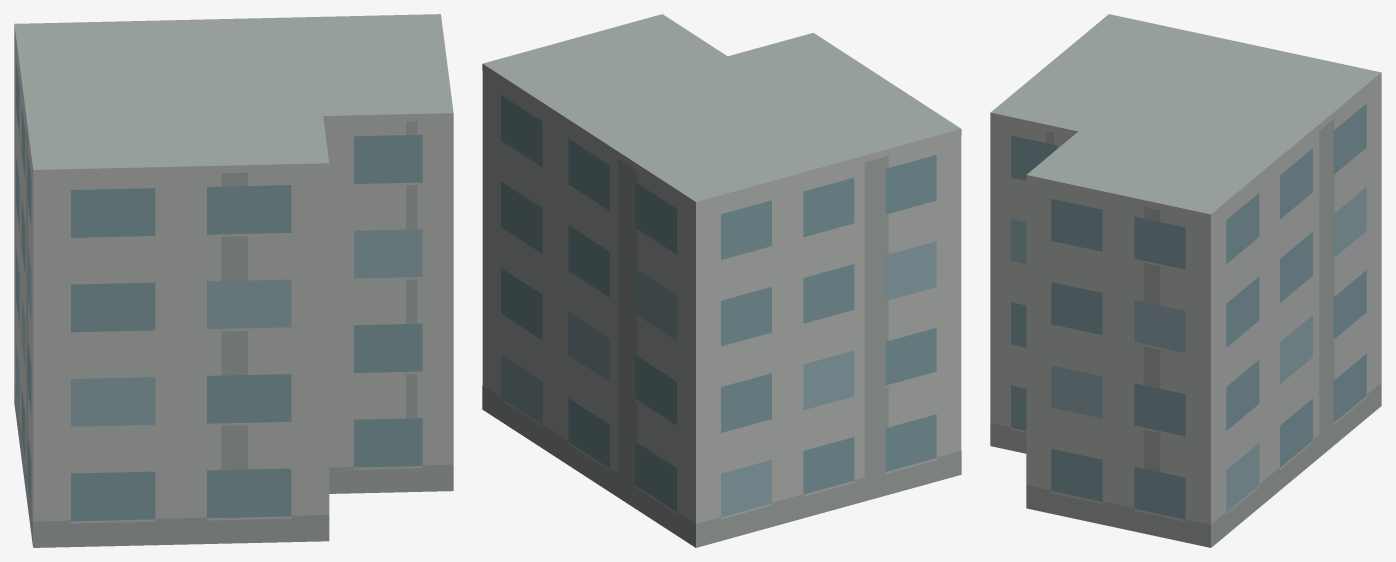
Rendered from residential-2426ab2c-4769-4335-b943-da2d8e59cfc4.glb.
The picture shows the model from 3 angles, left to right: view 1: azimuth 30°, elevation 25°; view 2: azimuth 150°, elevation 25°; view 3: azimuth 270°, elevation 25°; orthographic projection. The views are drawn at different scales.
Parts seen in each view (by area): view 1: residential-2426ab2c-4769-4335-b943-da2d8e59cfc4.tmp; view 2: residential-2426ab2c-4769-4335-b943-da2d8e59cfc4.tmp; view 3: residential-2426ab2c-4769-4335-b943-da2d8e59cfc4.tmp.
Part boxes in pixels (box(x1,y1,x2,y2)): residential-2426ab2c-4769-4335-b943-da2d8e59cfc4.tmp: box(14, 14, 453, 547); residential-2426ab2c-4769-4335-b943-da2d8e59cfc4.tmp: box(482, 14, 961, 547); residential-2426ab2c-4769-4335-b943-da2d8e59cfc4.tmp: box(990, 14, 1381, 547).
Size of the model in its own units: 15.74 by 12.2 by 12.98.
